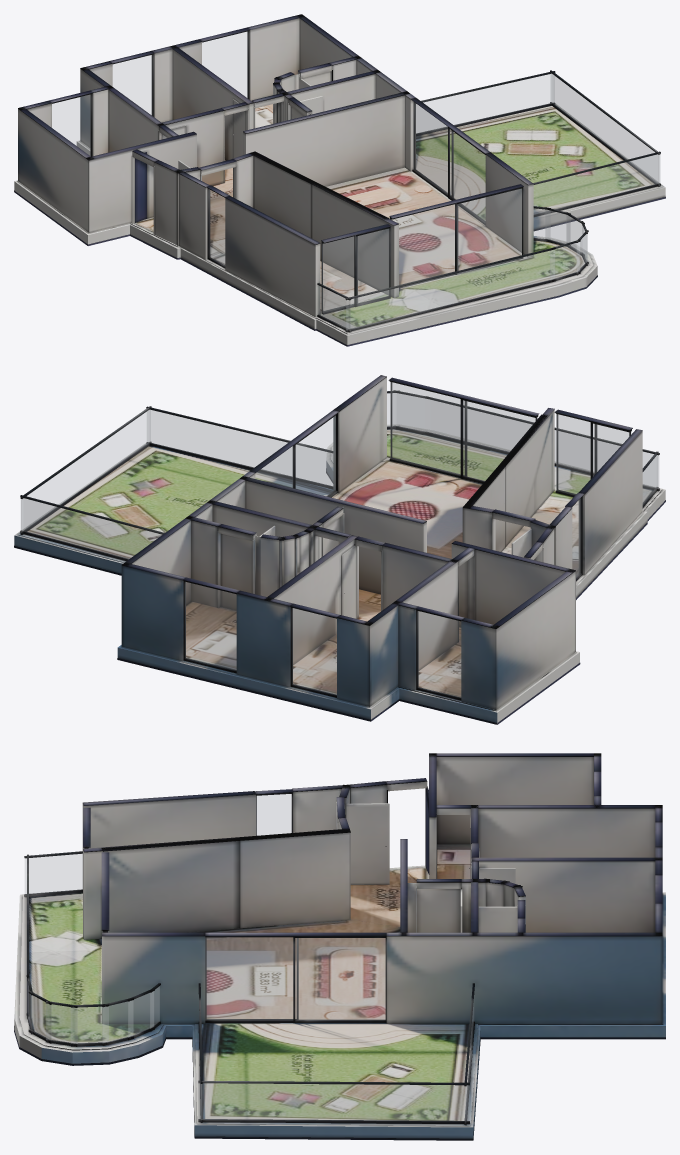
The picture shows the model from 3 angles, top to bottom: view 1: azimuth 30°, elevation 25°; view 2: azimuth 150°, elevation 25°; view 3: azimuth 270°, elevation 25°; orthographic projection. The views are drawn at different scales.
Visible parts, largest first — view 1: plan, glass5_m, railg10_m, glass4_m, glass6_m, railg0_m, railg2_m, railg1_m, glass2_m, glass1_m, glass0_m, glass3_m (+3 smaller); view 2: plan, glass5_m, railg2_m, railg10_m, railg1_m, railg0_m, glass2_m, glass6_m, glass1_m, glass4_m, glass0_m, railg9_m (+1 smaller); view 3: plan, glass4_m, railg1_m, railg11_m, glass3_m, railg6_m, railg7_m, railg5_m, railg4_m, railg8_m.
Boxes of the visible parts, <box> form: plan: <box>14,14,665,346</box>; glass5_m: <box>392,189,521,284</box>; railg10_m: <box>346,250,554,329</box>; glass4_m: <box>413,102,485,220</box>; glass6_m: <box>322,229,388,311</box>; railg0_m: <box>416,74,554,133</box>; railg2_m: <box>534,154,660,214</box>; railg1_m: <box>551,74,659,184</box>; glass2_m: <box>202,32,247,97</box>; glass1_m: <box>113,55,152,114</box>; glass0_m: <box>52,95,90,155</box>; glass3_m: <box>209,189,224,265</box>; plan: <box>14,375,665,724</box>; glass5_m: <box>390,382,535,480</box>; railg2_m: <box>147,410,332,485</box>; railg10_m: <box>431,400,658,488</box>; railg1_m: <box>21,410,150,532</box>; railg0_m: <box>21,498,161,558</box>; glass2_m: <box>185,582,236,670</box>; glass6_m: <box>556,414,631,494</box>; glass1_m: <box>292,608,336,695</box>; glass4_m: <box>255,416,335,496</box>; glass0_m: <box>418,611,460,697</box>; railg9_m: <box>397,393,425,431</box>; plan: <box>14,753,665,1140</box>; glass4_m: <box>205,937,385,1020</box>; railg1_m: <box>198,1083,469,1121</box>; railg11_m: <box>25,854,82,894</box>; glass3_m: <box>257,794,291,835</box>; railg6_m: <box>71,1006,108,1043</box>; railg7_m: <box>46,1004,77,1043</box>; railg5_m: <box>102,1000,133,1042</box>; railg4_m: <box>128,991,153,1037</box>; railg8_m: <box>29,994,51,1040</box>.
Bounding box in the file's own units: 15.81 × 2.62 × 15.19.
Materials: 2 (1 with a texture image).
